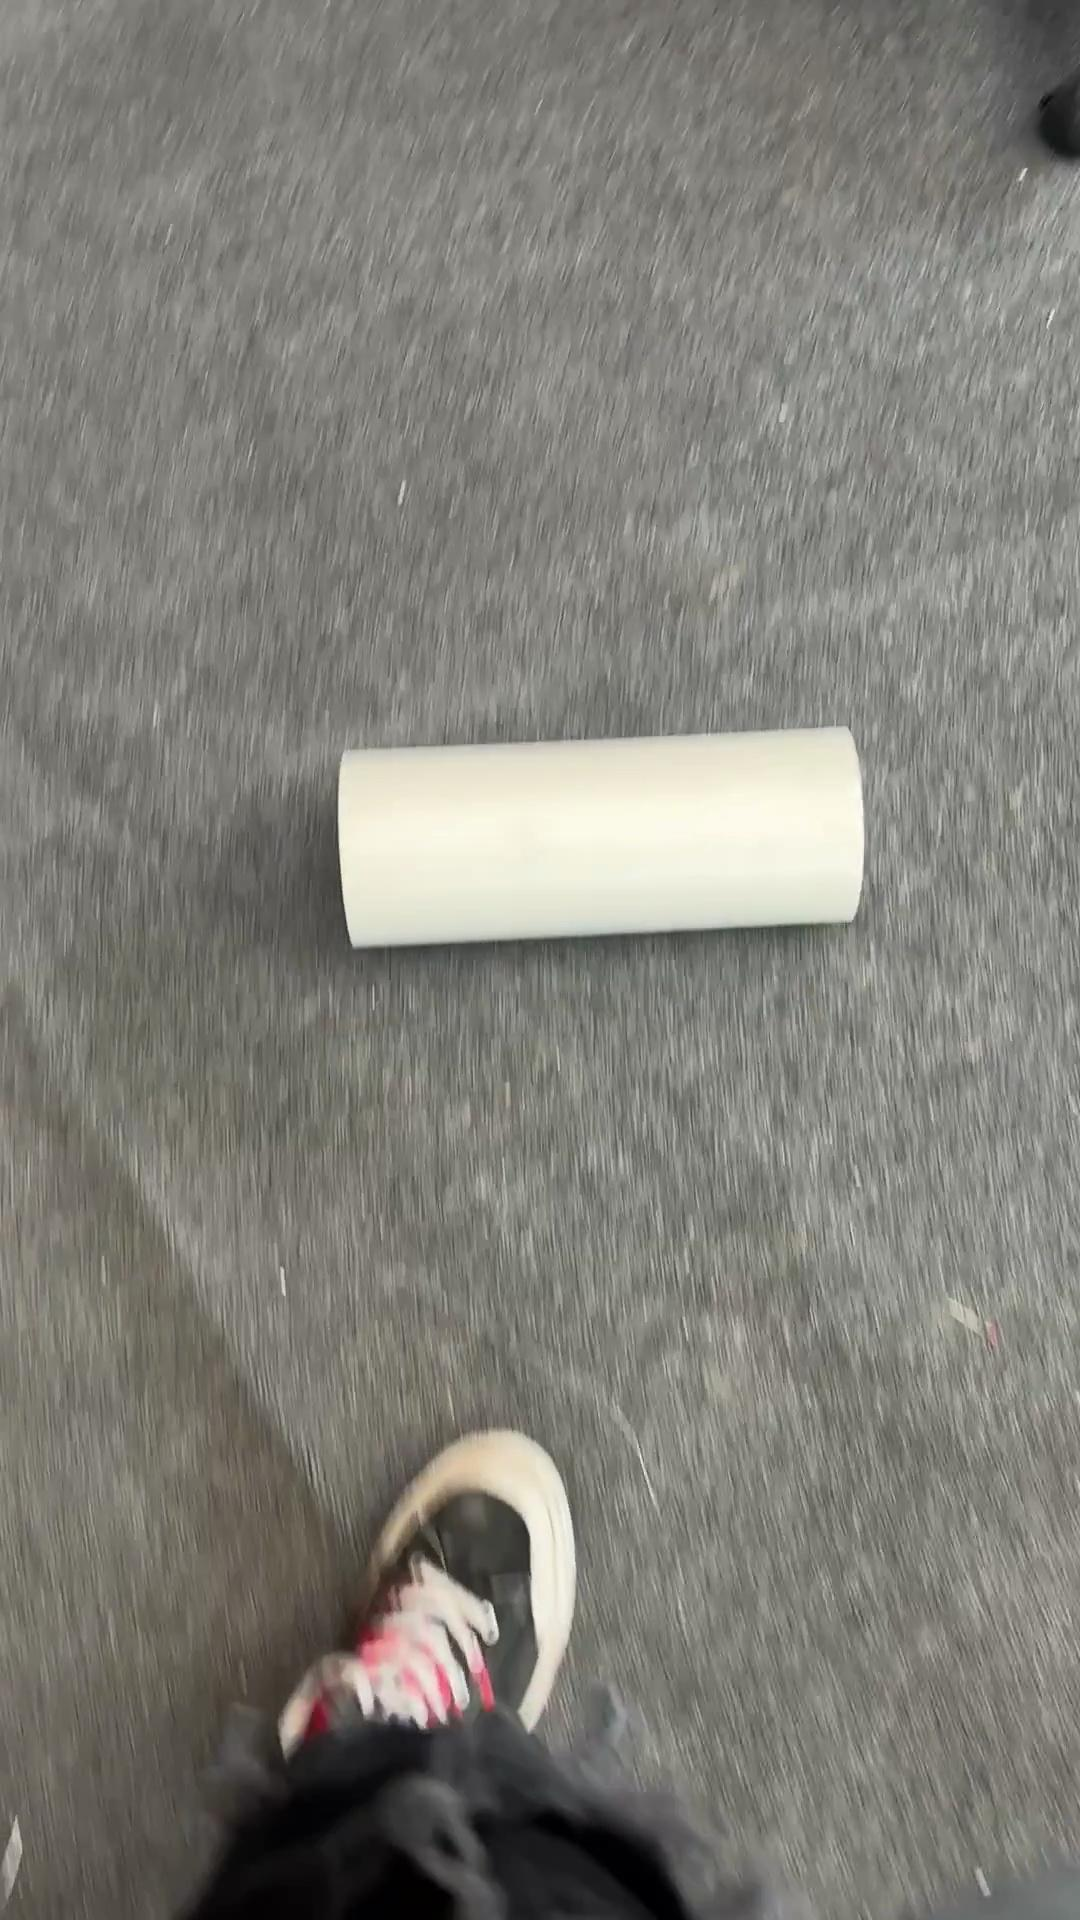CORAL: (334, 721, 866, 951)
